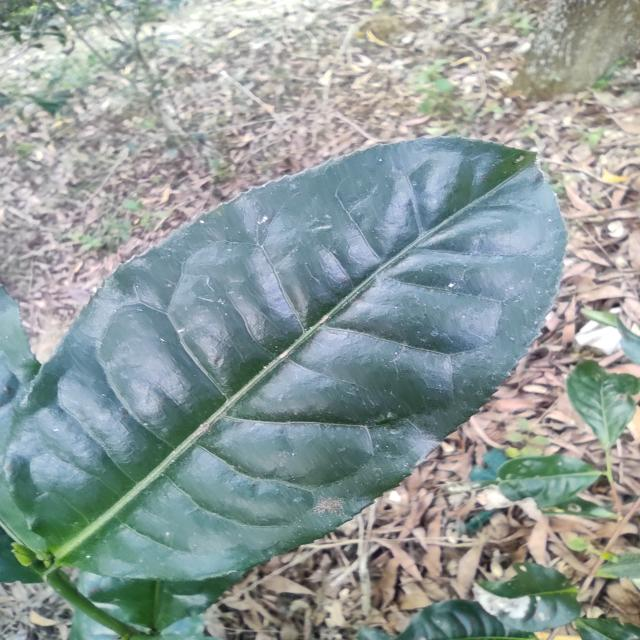Category D(7+ days, Not for Tea): (3, 130, 580, 598)
